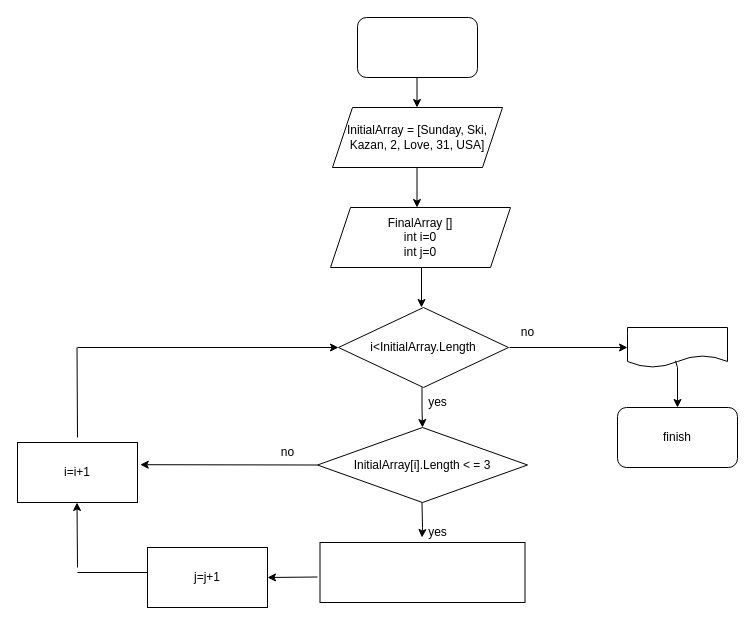
Some shapes in this 755 by 625 pixel diagram are drawn without their labels. Here are the shapes that lost their labels. From the top down, the centre of each, then its label:
At [417,47]: "start".
At [677,347]: "FinalArray".
At [422,572]: "FinalArray [j]=InitialArray [i]".
